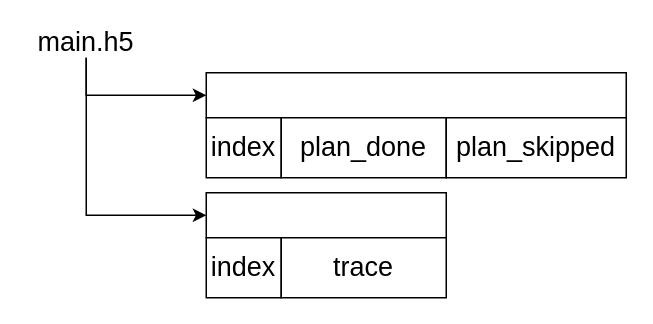
The diagram is 653 pixels wide and 324 high, and some of its shapes have lost their labels. Each missing label, with the centre of its shape:
"curve" belongs at point 325,214.
"plan" belongs at point 415,94.
